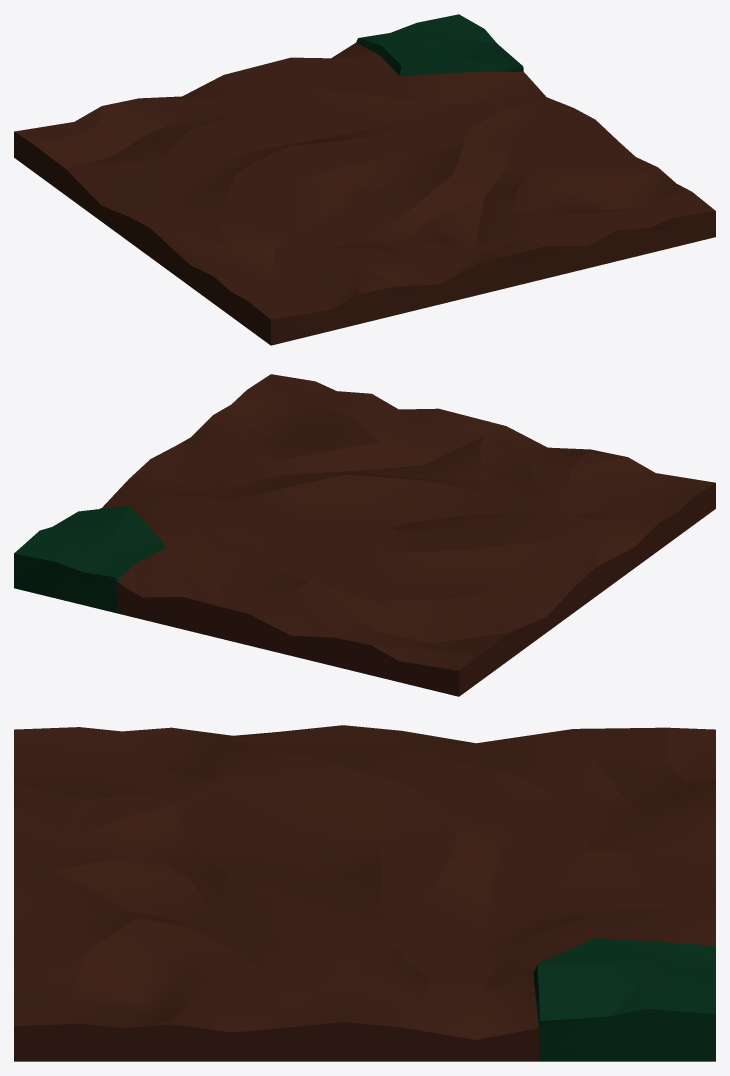
File: Ground_Corner_External_RU.fbx
3 views of the same model, one above another, from view 1: azimuth 30°, elevation 25°; view 2: azimuth 150°, elevation 25°; view 3: azimuth 270°, elevation 25° (orthographic). The views are drawn at different scales.
Visible parts, largest first — view 1: Ground_Corner_External_RU; view 2: Ground_Corner_External_RU; view 3: Ground_Corner_External_RU.
Boxes of the visible parts, x1,y1,x2,y2 form: Ground_Corner_External_RU: [14, 14, 715, 345]; Ground_Corner_External_RU: [14, 374, 715, 696]; Ground_Corner_External_RU: [14, 725, 715, 1061].
Bounding box in the file's own units: 147 × 14.83 × 147.
